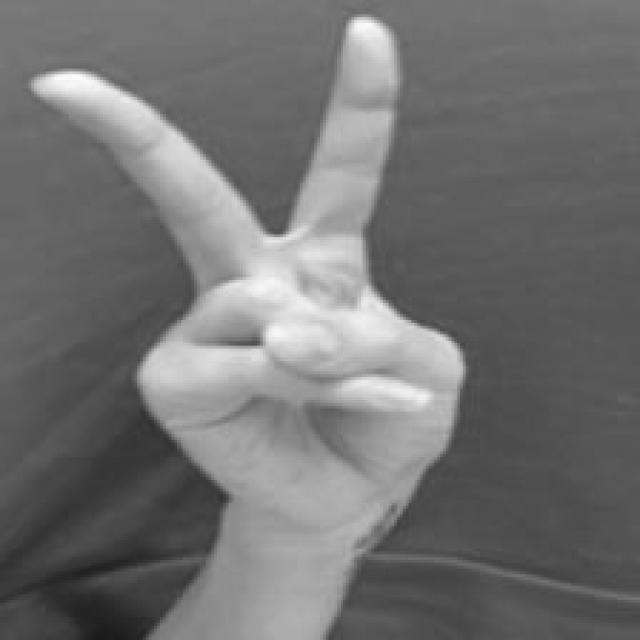V: (28, 11, 470, 541)
